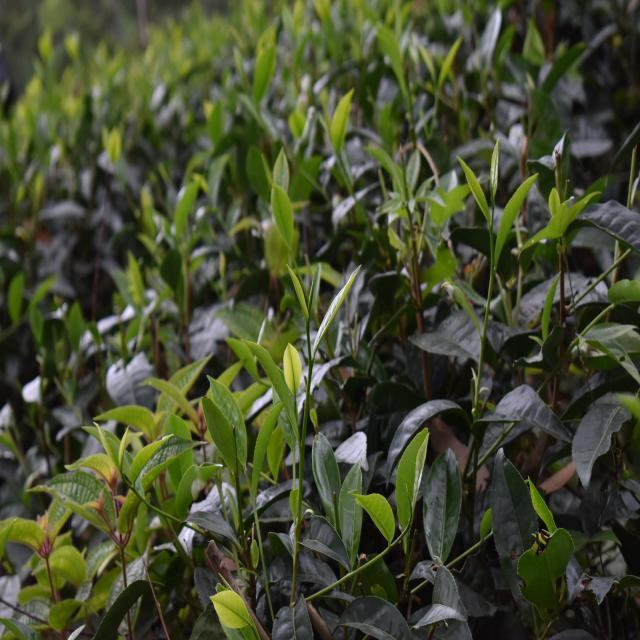Stem: (131, 487, 143, 500), (398, 528, 409, 538), (252, 500, 257, 521), (306, 321, 309, 337), (490, 230, 493, 246)
